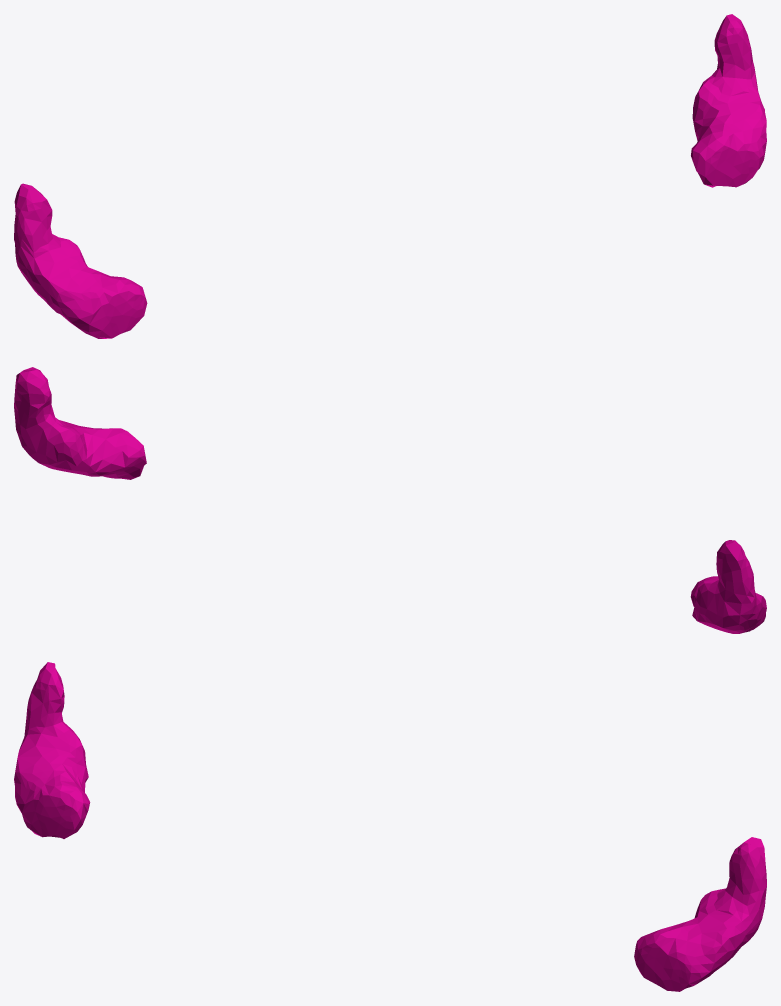
The model's file is 195-2.1-areas 2.1 of cortex (somatosensory)-('1.0000', '0.0000', '0.6902').obj.
3 renders of one model, top to bottom at view 1: azimuth 30°, elevation 25°; view 2: azimuth 150°, elevation 25°; view 3: azimuth 330°, elevation 25°, orthographic.
Bounding box in the file's own units: 352 × 59.62 × 43.02.
